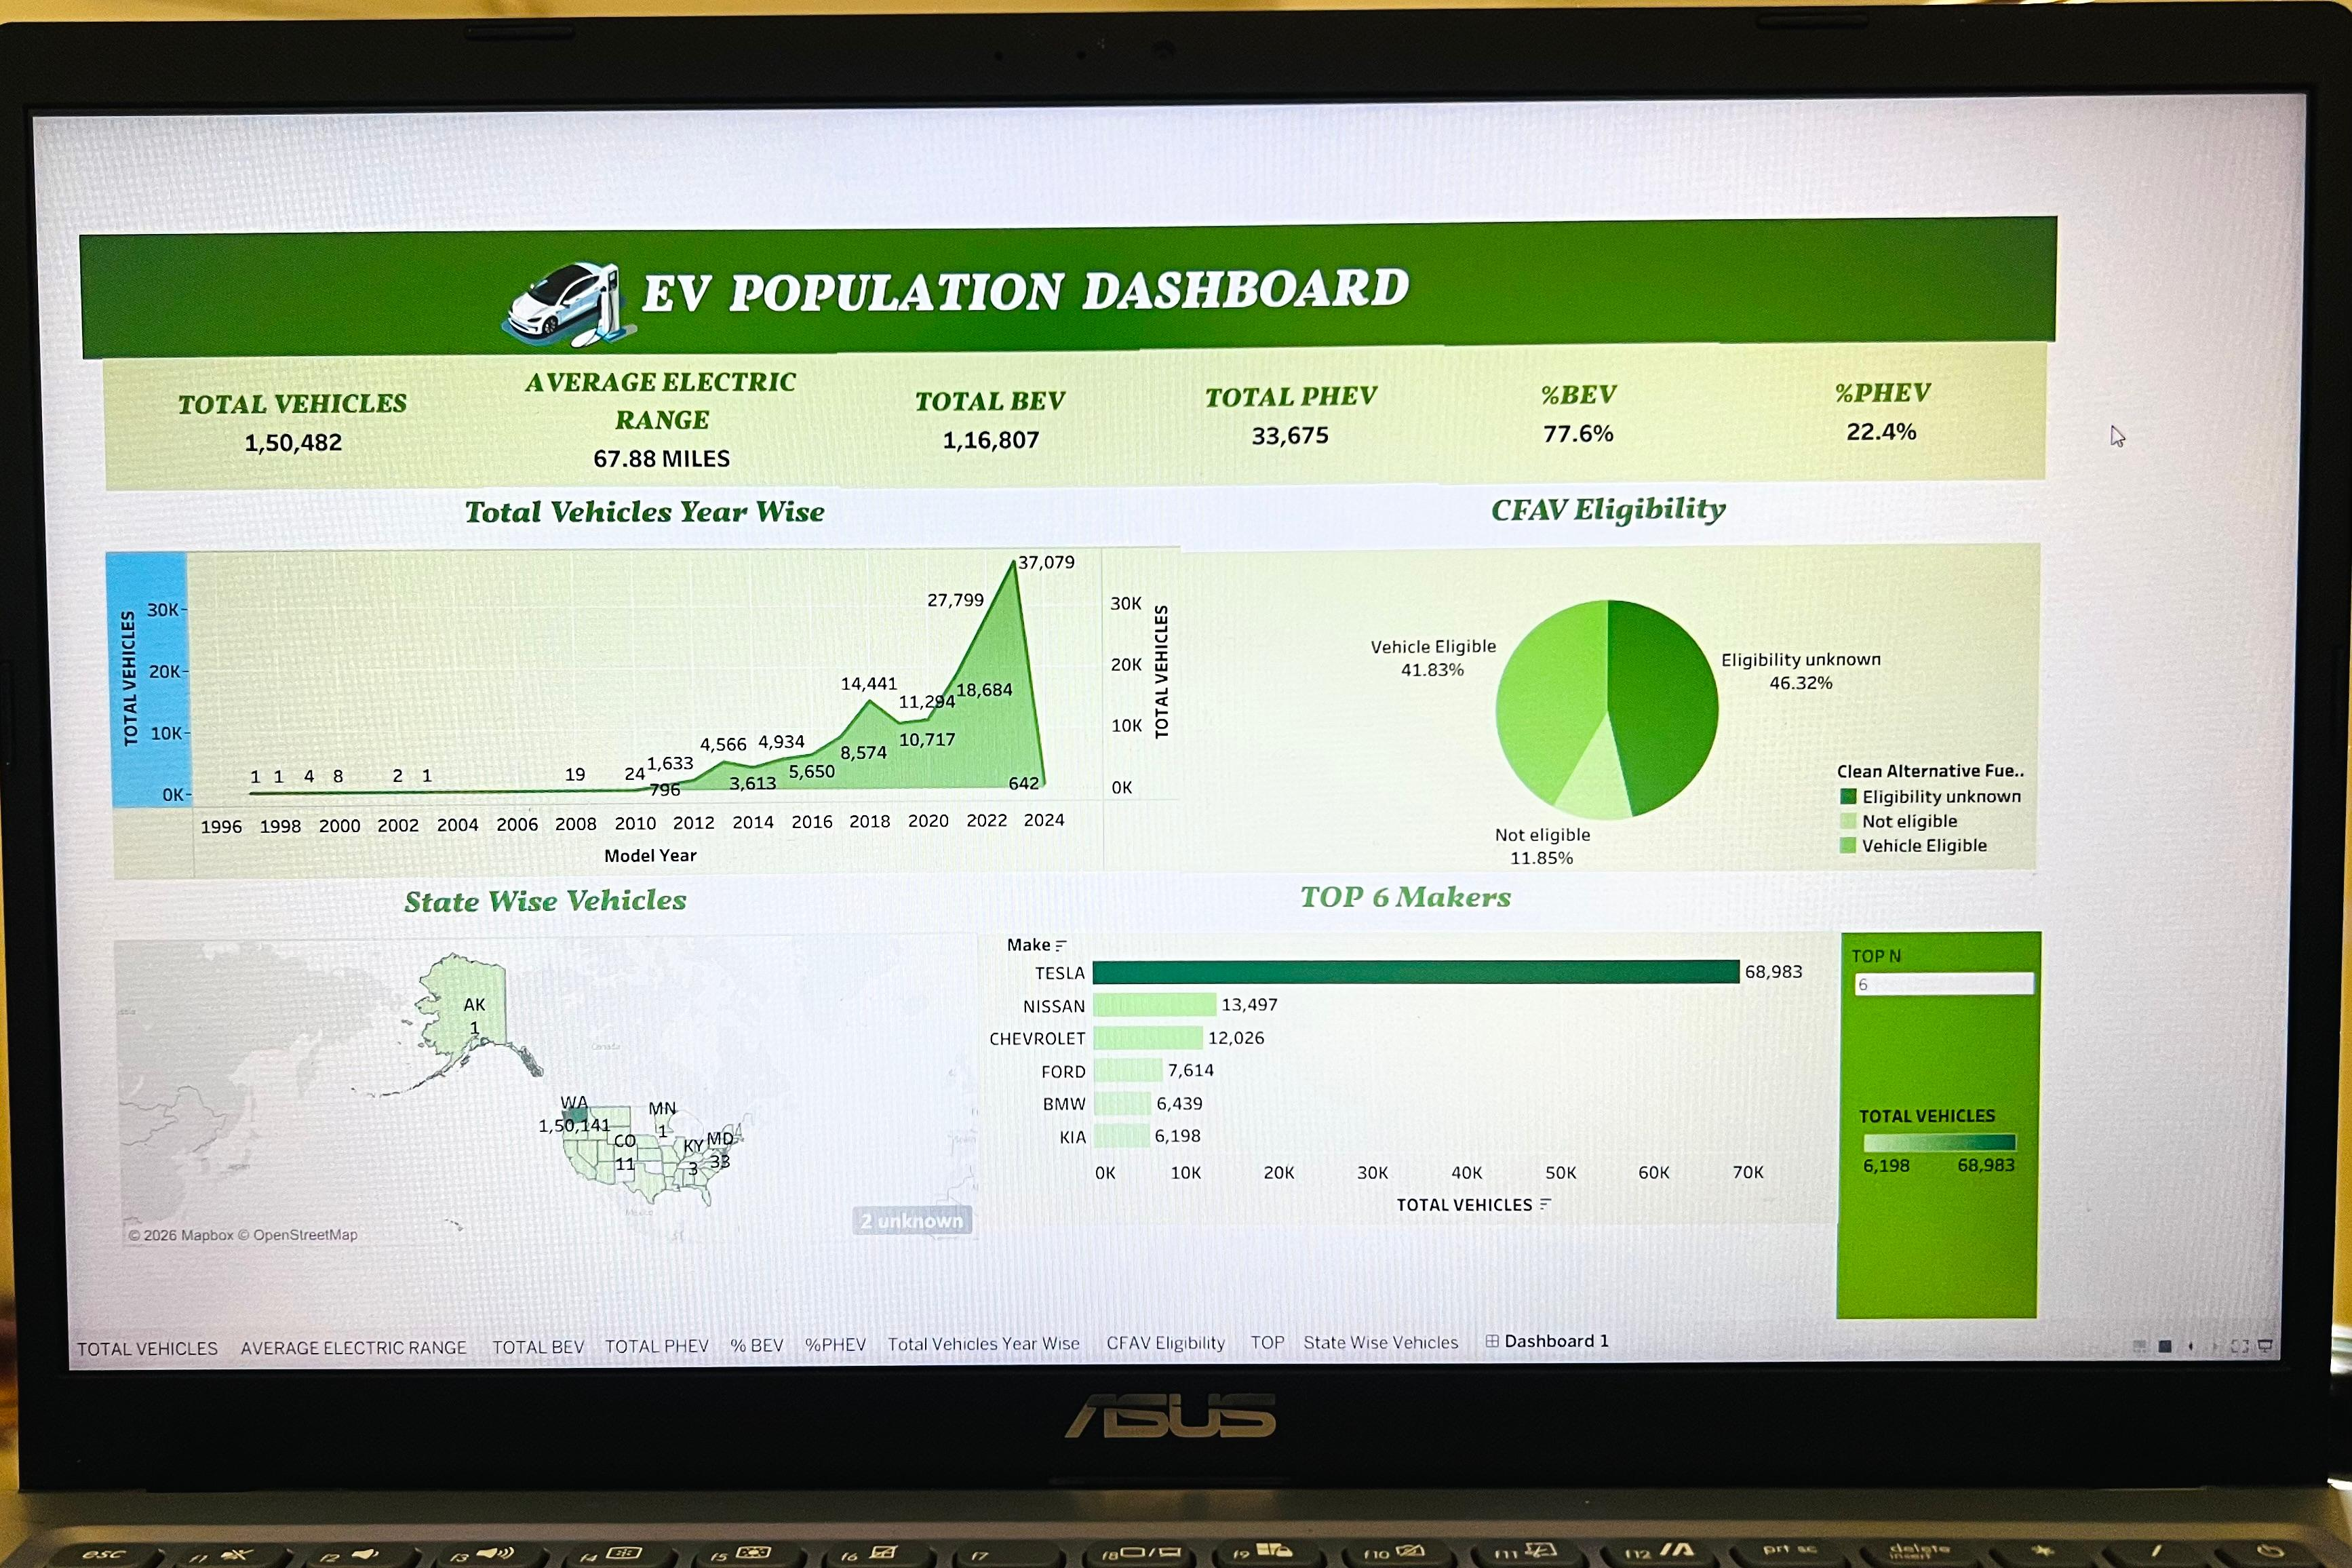

The dashboard page shown, as its layout file describes it:
{"tool":"tableau","page":{"name":"Dashboard 1","canvas":[1000,1000],"units":"permille","ordinal":0},"visuals":[{"type":"image","param":"C:/Users/HOME/Downloads/EV car.png","box":[185.2,9.6,124.7,142.5]},{"type":"text","box":[253.3,16.8,526.9,119.8]},{"type":"worksheet","title":"TOTAL PHEV","mark":"Automatic","box":[488.5,129.3,142.3,135.3]},{"type":"worksheet","title":"TOTAL BEV","mark":"Automatic","box":[346.2,130.5,144,134.1]},{"type":"worksheet","title":"% BEV","mark":"Automatic","box":[628.6,130.5,129.7,136.5]},{"type":"worksheet","title":"TOTAL VEHICLES","mark":"Automatic","box":[1.7,131.7,178,131.7]},{"type":"worksheet","title":"AVERAGE ELECTRIC RANGE","mark":"Automatic","box":[179.7,131.7,167.6,130.5]},{"type":"worksheet","title":"%PHEV","mark":"Automatic","box":[758.2,131.7,152.2,136.5]},{"type":"worksheet","title":"Total Vehicles Year Wise","mark":"Area","rows":["Calculation_0484936418861056","Calculation_0484936418861056"],"cols":["Model Year"],"box":[0.6,261.1,507.7,390.4]},{"type":"worksheet","title":"CFAV Eligibility","mark":"Pie","box":[506.6,267.1,402.2,386.8]},{"type":"legend","title":"CFAV Eligibility","param":"[federated.0k1k1v707tddyw1323jkd1uzsbj7].[none:Clean Alternative Fuel Vehicle (C","box":[814.8,541.3,89.6,101.8]},{"type":"parameter","param":"[Parameters].[Parameter 0219955125010432]","box":[822.5,727,87.9,57.5]},{"type":"legend","title":"TOP","param":"[federated.0k1k1v707tddyw1323jkd1uzsbj7].[usr:Calculation_0484936418861056:qk]","box":[826.9,888.6,76.9,105.4]}]}

Visuals, with their boxes on the dashboard's canvas, which has no fixed pixel size, in thousandths of its width and height (x1, y1, x2, y2). These are canvas units, not pixel positions in the 2352x1568 screenshot, which may show the page scaled, cropped or inside an application window:
image: <box>185,10,310,152</box>
text: <box>253,17,780,137</box>
"TOTAL PHEV" worksheet: <box>488,129,631,265</box>
"TOTAL BEV" worksheet: <box>346,130,490,265</box>
"% BEV" worksheet: <box>629,130,758,267</box>
"TOTAL VEHICLES" worksheet: <box>2,132,180,263</box>
"AVERAGE ELECTRIC RANGE" worksheet: <box>180,132,347,262</box>
"%PHEV" worksheet: <box>758,132,910,268</box>
"Total Vehicles Year Wise" worksheet (Area marks): <box>1,261,508,652</box>
"CFAV Eligibility" worksheet (Pie marks): <box>507,267,909,654</box>
"CFAV Eligibility" legend: <box>815,541,904,643</box>
parameter: <box>822,727,910,784</box>
"TOP" legend: <box>827,889,904,994</box>
